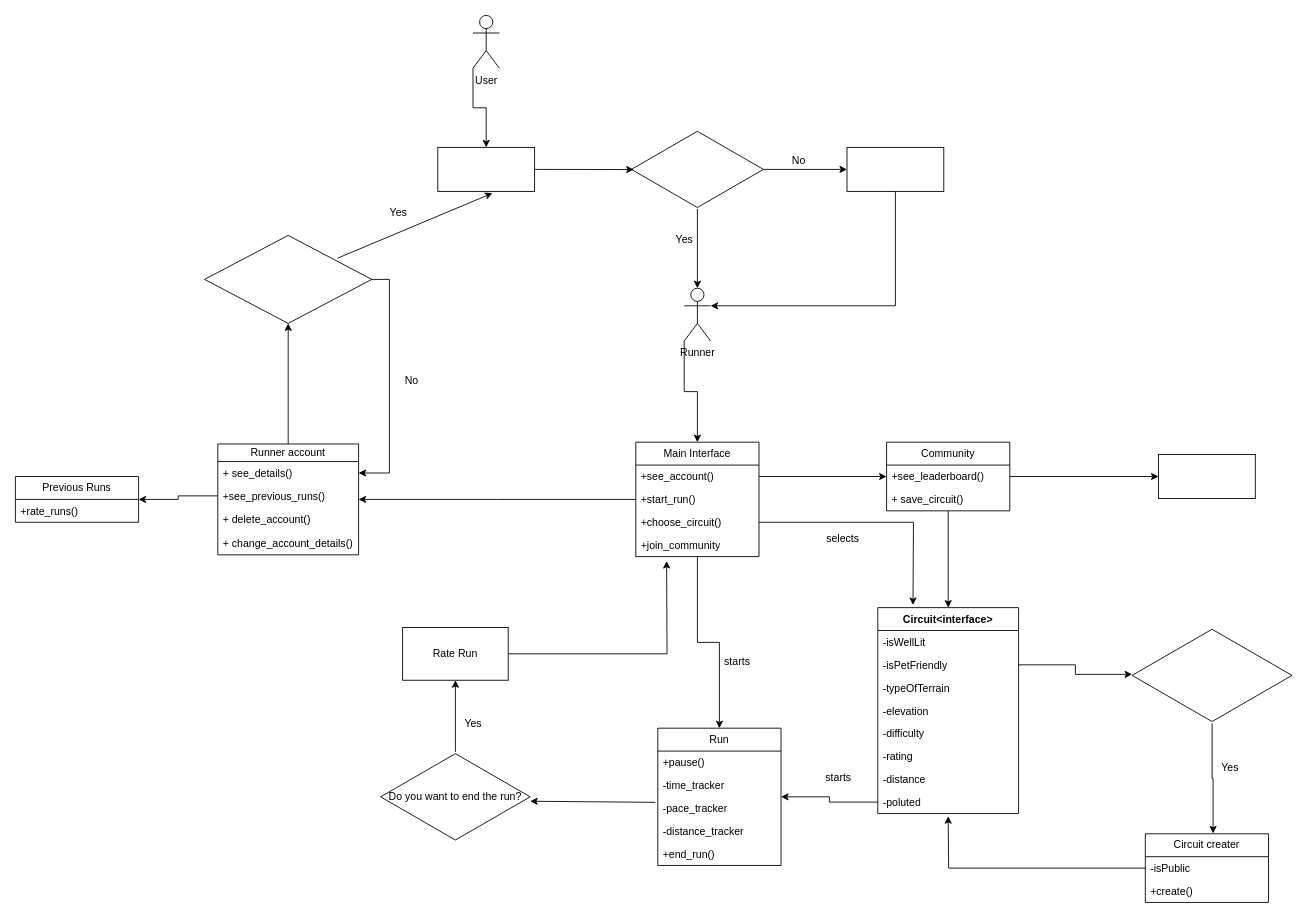
The diagram is 1308 pixels wide and 920 high, and some of its shapes have lost their labels. Each missing label, with the centre of its shape:
Do you want to create a circuit?: (1211,675)
Do you want to delete the account?: (288,279)
Home Page: (486,169)
Is the user logged?: (697,169)
Leaderboard: (1206,476)
Login/Register Page: (895,169)
